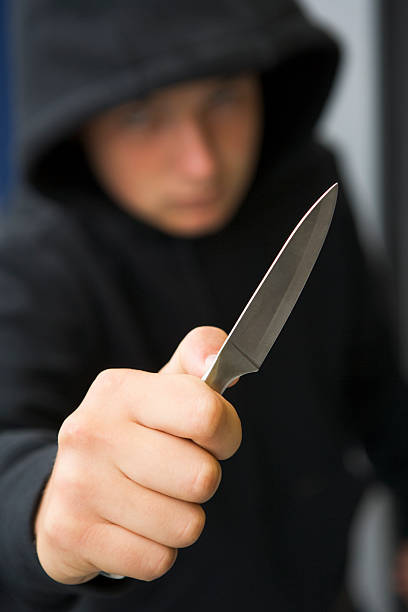knife: (201, 179, 343, 394)
